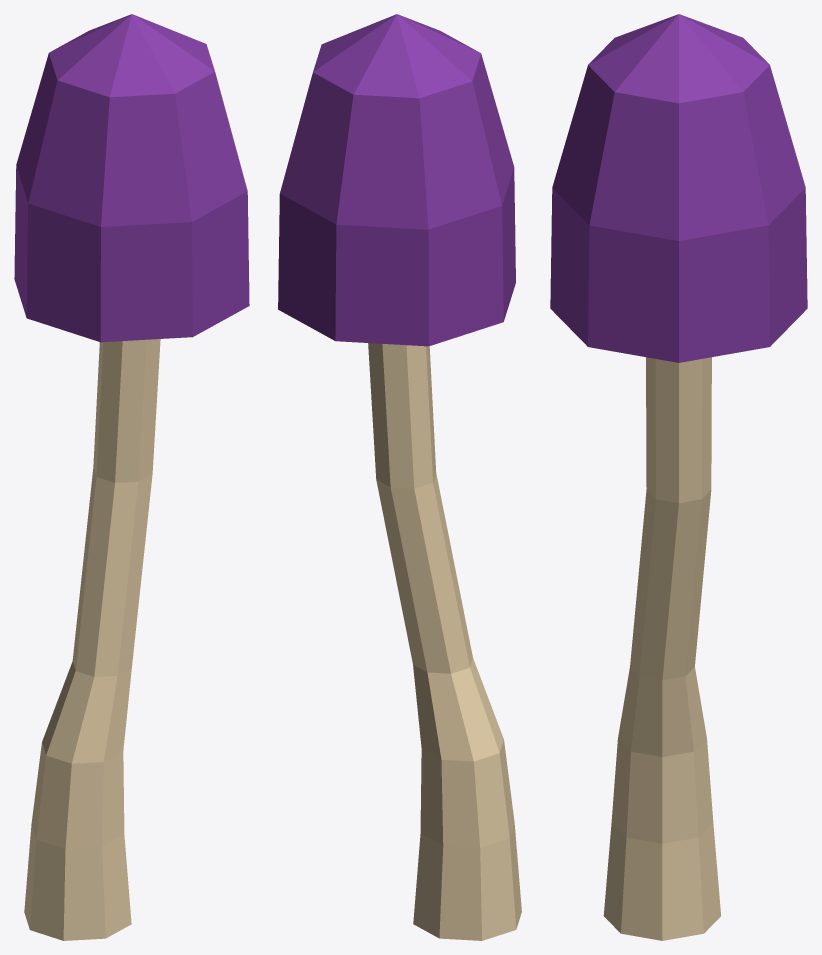
The model's file is Champignon_D.FBX.
3 views of the same model, side by side, from view 1: azimuth 30°, elevation 25°; view 2: azimuth 150°, elevation 25°; view 3: azimuth 270°, elevation 25° (orthographic). The views are drawn at different scales.
Visible parts, largest first — view 1: Champignon_D; view 2: Champignon_D; view 3: Champignon_D.
Boxes of the visible parts, x1,y1,x2,y2 form: Champignon_D: (14,14,249,940); Champignon_D: (278,14,521,940); Champignon_D: (550,14,807,940).
Size of the model in its own units: 2.94 by 11.52 by 2.88.
1 material, 1 textured.
